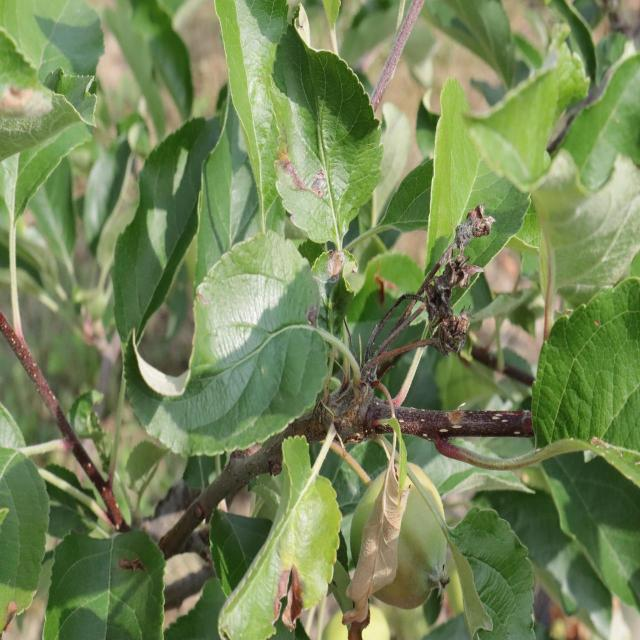-FireBlight-: (342, 419, 419, 639)
